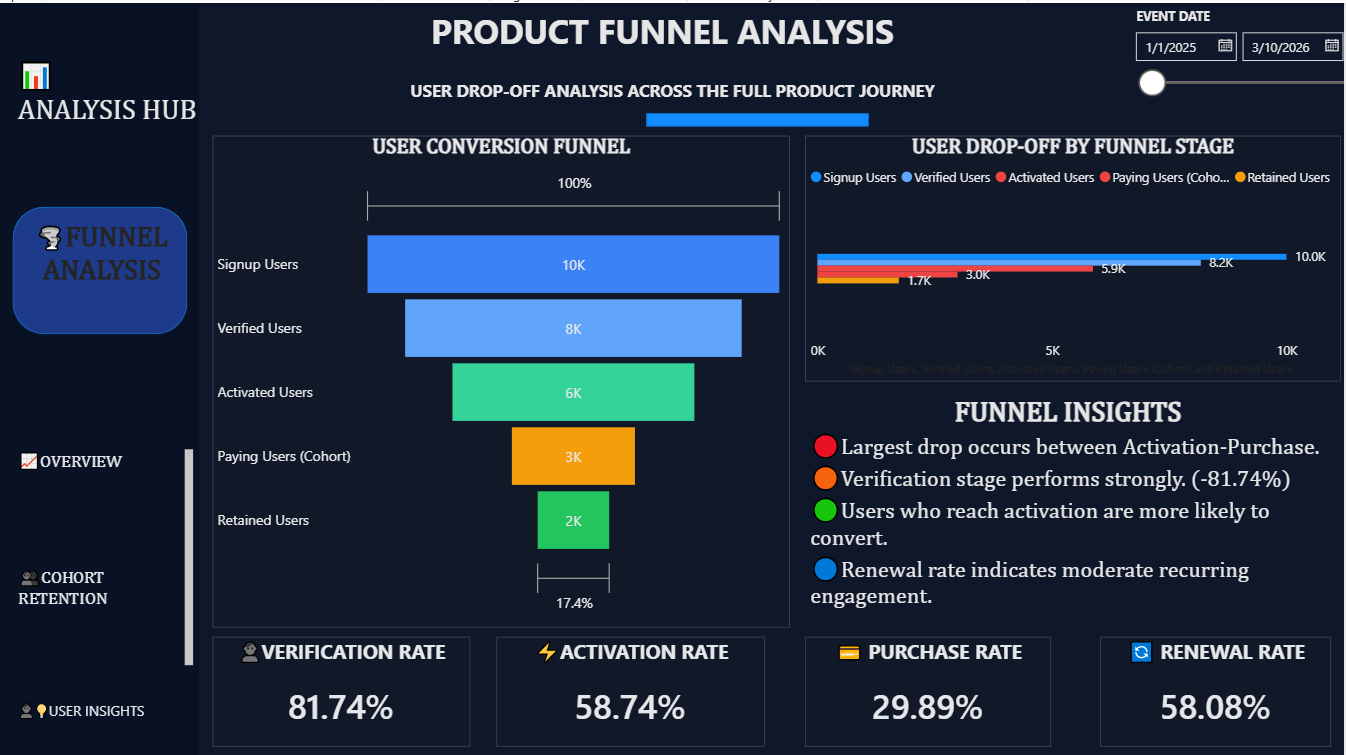

This screenshot's page, from the dashboard's own definition file:
{"tool":"powerbi","page":{"name":"Page 2","canvas":[1280,720],"ordinal":1},"visuals":[{"type":"textbox","box":[0,0,189.3,720.2],"z":0},{"type":"textbox","box":[202.4,0,857.1,66.7],"z":1000},{"type":"textbox","box":[211.9,66.7,857.1,38.1],"z":2000},{"type":"slicer","fields":{"Values":["events_csv.event_date"]},"box":[1069,0,285.6,105.4],"z":3000},{"type":"textbox","box":[11.9,45.2,190.5,117.9],"z":4000},{"type":"shape","box":[11.9,194,166.7,121.4],"z":5000},{"type":"textbox","box":[11.9,420.2,177.4,276.2],"z":6000},{"type":"textbox","box":[766.7,370.2,501.2,225],"z":7000},{"type":"cardVisual","title":"👤VERIFICATION RATE","fields":{"Data":["events_csv.Verification Rate"]},"box":[202.4,603.6,245.2,104.8],"z":8000},{"type":"cardVisual","title":"⚡ACTIVATION RATE","fields":{"Data":["events_csv.Activation Rate"]},"box":[472.6,603.6,256,104.8],"z":9000},{"type":"cardVisual","title":"💳 PURCHASE RATE","fields":{"Data":["events_csv.Purchase Rate"]},"box":[766.7,603.6,234.5,104.8],"z":10000},{"type":"cardVisual","title":"🔄 RENEWAL RATE","fields":{"Data":["events_csv.Renewal Rate"]},"box":[1047.6,603.6,220.2,104.8],"z":11000},{"type":"shape","box":[202.4,126.2,550,469.1],"z":12000},{"type":"shape","box":[766.7,126.2,510.7,234.5],"z":13000},{"type":"funnel","title":"USER CONVERSION FUNNEL","fields":{"Y":["events_csv.Signup Users","events_csv.Verified Users","events_csv.Activated Users","events_csv.Paying Users","events_csv.Retained Users"]},"box":[202.4,126.2,550,469.1],"z":14000},{"type":"clusteredBarChart","title":"USER DROP-OFF BY FUNNEL STAGE","fields":{"Y":["events_csv.Signup Users","events_csv.Verified Users","events_csv.Activated Users","events_csv.Paying Users","events_csv.Retained Users"]},"box":[766.7,126.2,510.7,233.3],"z":15000},{"type":"textbox","box":[23.8,203.6,146.4,102.4],"z":16000},{"type":"shape","box":[615.5,104.8,211.9,13.1],"z":17000}]}

Visuals, with their boxes in screenshot pixels (x1, y1, x2, y2), scaled from the page's 1280x720 canvas onto the 1346x755 screenshot:
textbox: 0,0,199,754
textbox: 213,0,1114,70
textbox: 223,70,1124,110
slicer - events_csv.event_date: 1124,0,1345,111
textbox: 13,47,213,171
shape: 13,203,188,331
textbox: 13,441,199,730
textbox: 806,388,1333,624
"👤VERIFICATION RATE" cardVisual: 213,633,471,743
"⚡ACTIVATION RATE" cardVisual: 497,633,766,743
"💳 PURCHASE RATE" cardVisual: 806,633,1053,743
"🔄 RENEWAL RATE" cardVisual: 1102,633,1333,743
shape: 213,132,791,624
shape: 806,132,1343,378
"USER CONVERSION FUNNEL" funnel: 213,132,791,624
"USER DROP-OFF BY FUNNEL STAGE" clusteredBarChart: 806,132,1343,377
textbox: 25,213,179,321
shape: 647,110,870,124
